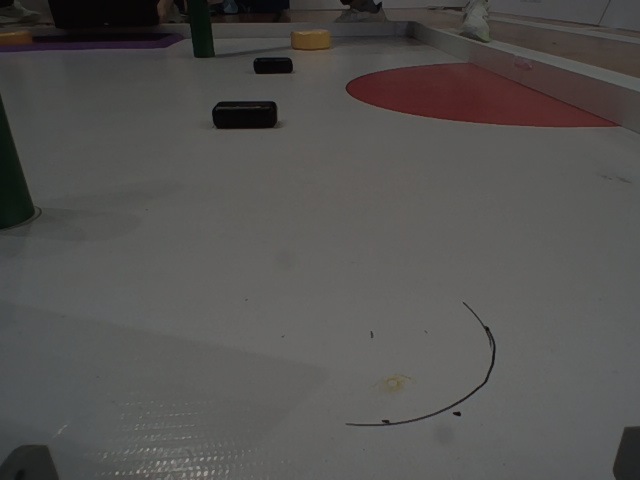black: (208, 98, 279, 136), (251, 53, 291, 71)
kuang: (1, 25, 196, 53)
yellow: (286, 24, 335, 47), (1, 31, 34, 49)
zhuzi: (1, 75, 42, 235), (186, 1, 222, 57)
